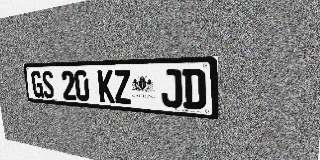0: (74, 70, 90, 101)
2: (61, 70, 76, 100)
D: (182, 69, 206, 110)
G: (30, 71, 44, 98)
J: (160, 69, 182, 108)
K: (97, 70, 115, 103)
S: (41, 71, 55, 99)
Z: (113, 70, 132, 104)
